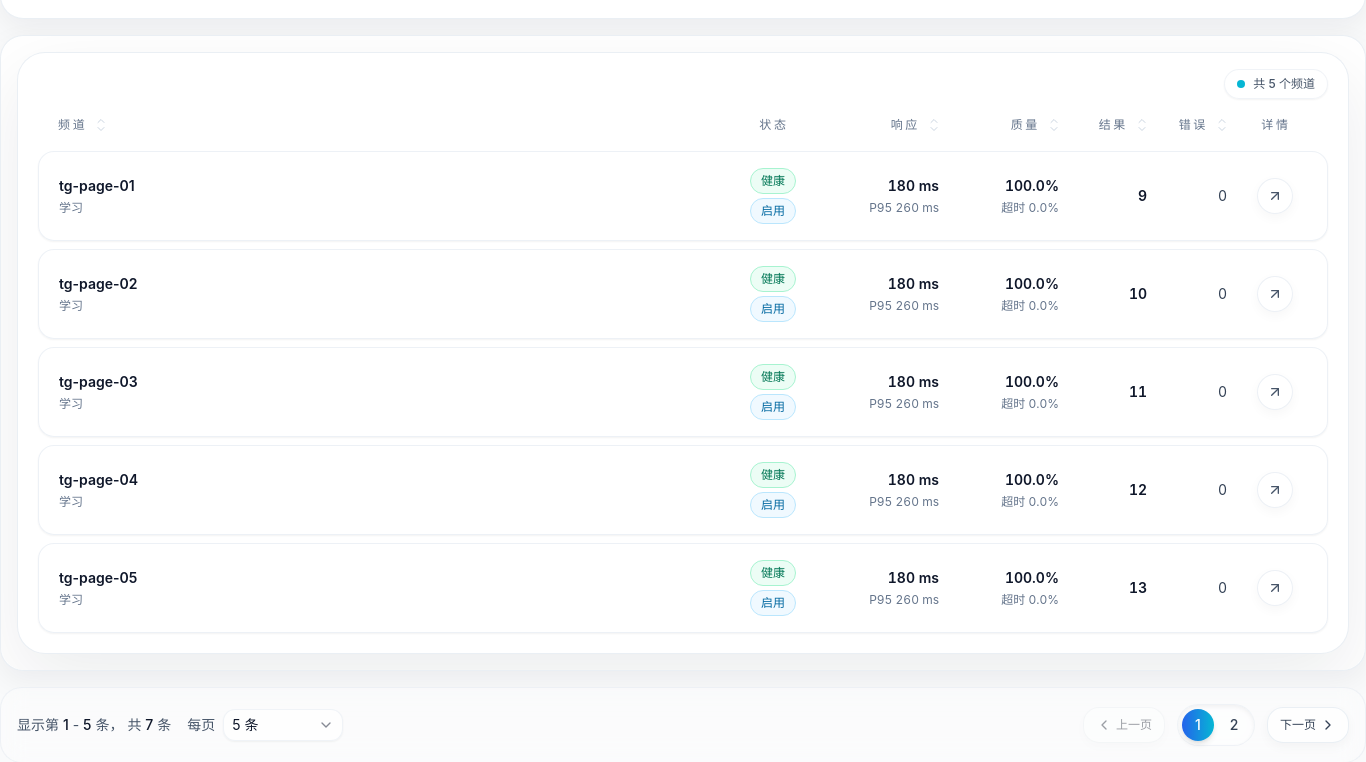
Test case: ChannelPerformancePanel › 支持分页浏览频道性能表并切换每页条数
(page scrolled)
Expected: the text "tg-page-05" is shown, [59,569,137,586]
Expected: the dropdown named "每页条数" is shown, [223,709,343,741]
Click the button "下一页" at x=1308, y=725, box [1267,707,1349,743]
(page scrolled)
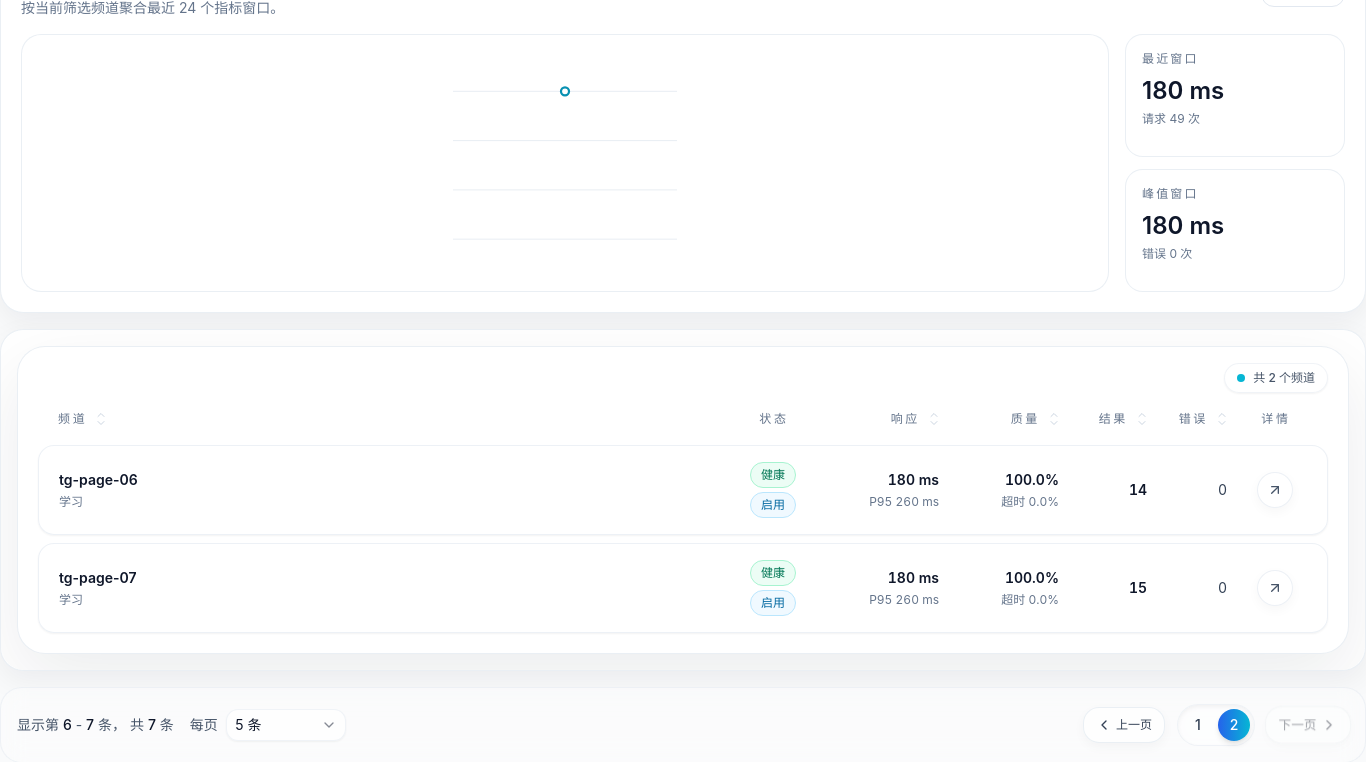
Expected: the text "tg-page-06" is shown, [59,471,138,488]
Click the dropdown named "每页条数" at x=286, y=725, box [226,709,346,741]
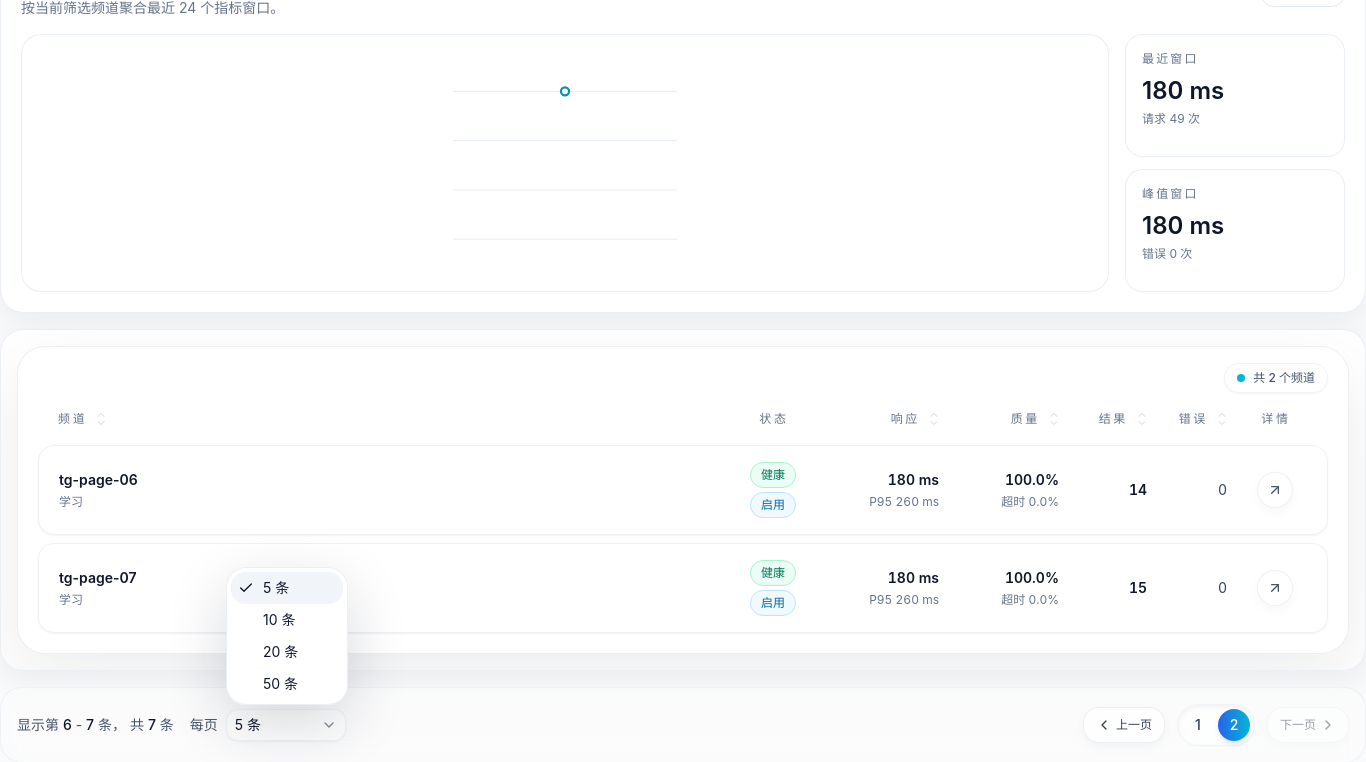
Click the option "10 条" at x=279, y=620, box [263,611,296,628]
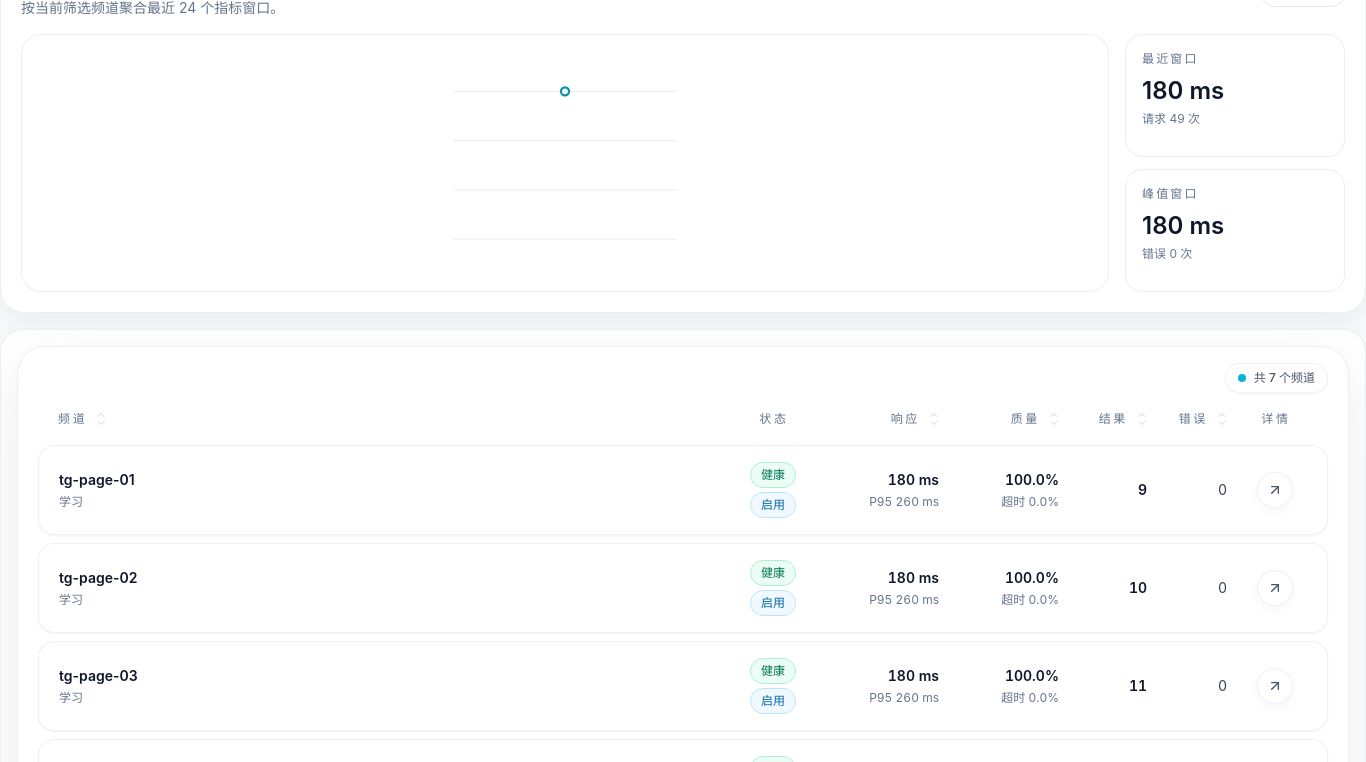
Expected: the text "tg-page-01" is shown, [59,471,135,488]
